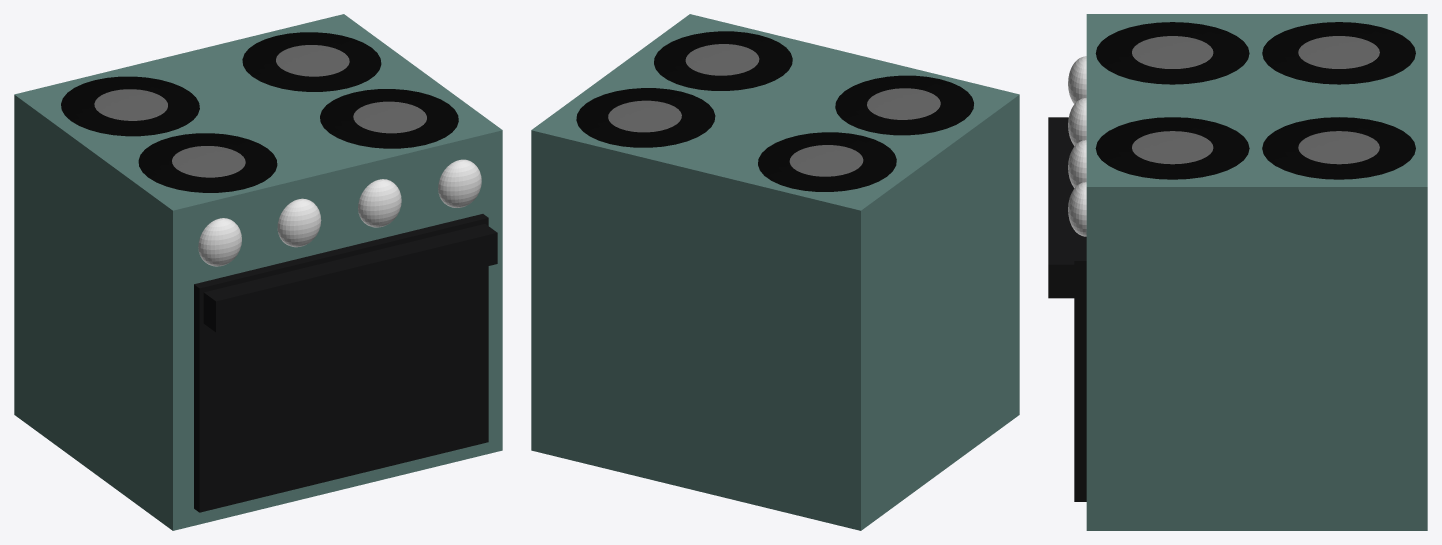
File: Oven.fbx
The picture shows the model from 3 angles, left to right: view 1: azimuth 30°, elevation 25°; view 2: azimuth 150°, elevation 25°; view 3: azimuth 270°, elevation 25°; orthographic projection. The views are drawn at different scales.
Visible parts, largest first — view 1: Cube, Cube.001, Cube.002, Sphere.004, Sphere.006, Sphere.008, Sphere.010, Sphere.009, Sphere.005, Sphere.007, Sphere.011, Sphere.002 (+3 smaller); view 2: Cube, Sphere.010, Sphere.008, Sphere.004, Sphere.006, Sphere.007, Sphere.009, Sphere.005, Sphere.011; view 3: Cube, Sphere.008, Sphere.006, Sphere.010, Sphere.004, Cube.002, Cube.001, Sphere.007, Sphere.009, Sphere.011, Sphere.005, Sphere.003 (+3 smaller).
Boxes of the visible parts, x1,y1,x2,y2 form: Cube: [14, 14, 502, 530]; Cube.001: [194, 214, 488, 512]; Cube.002: [203, 224, 497, 332]; Sphere.004: [61, 76, 199, 136]; Sphere.006: [242, 32, 381, 91]; Sphere.008: [320, 89, 458, 148]; Sphere.010: [138, 133, 277, 192]; Sphere.009: [353, 101, 426, 133]; Sphere.005: [94, 89, 167, 120]; Sphere.007: [276, 45, 349, 76]; Sphere.011: [172, 146, 245, 177]; Sphere.002: [358, 179, 401, 227]; Cube: [531, 14, 1019, 530]; Sphere.010: [835, 75, 973, 135]; Sphere.008: [654, 31, 792, 90]; Sphere.004: [758, 132, 896, 191]; Sphere.006: [576, 88, 715, 147]; Sphere.007: [608, 100, 681, 132]; Sphere.009: [685, 44, 759, 75]; Sphere.005: [789, 145, 863, 176]; Sphere.011: [867, 88, 940, 119]; Cube: [1086, 14, 1427, 530]; Sphere.008: [1095, 117, 1249, 179]; Sphere.006: [1262, 117, 1415, 179]; Sphere.010: [1095, 22, 1249, 84]; Sphere.004: [1262, 22, 1415, 84]; Cube.002: [1048, 117, 1074, 298]; Cube.001: [1074, 230, 1086, 501]; Sphere.007: [1298, 131, 1379, 164]; Sphere.009: [1132, 131, 1213, 164]; Sphere.011: [1132, 36, 1213, 68]; Sphere.005: [1298, 36, 1379, 68]; Sphere.003: [1068, 182, 1086, 236].
Size of the model in its own units: 817 by 762 by 758.
